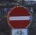No entry: (6, 5, 31, 30)
